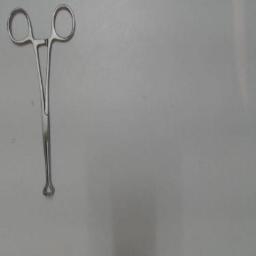Babcock Tissue Forceps: (5, 2, 77, 200)
